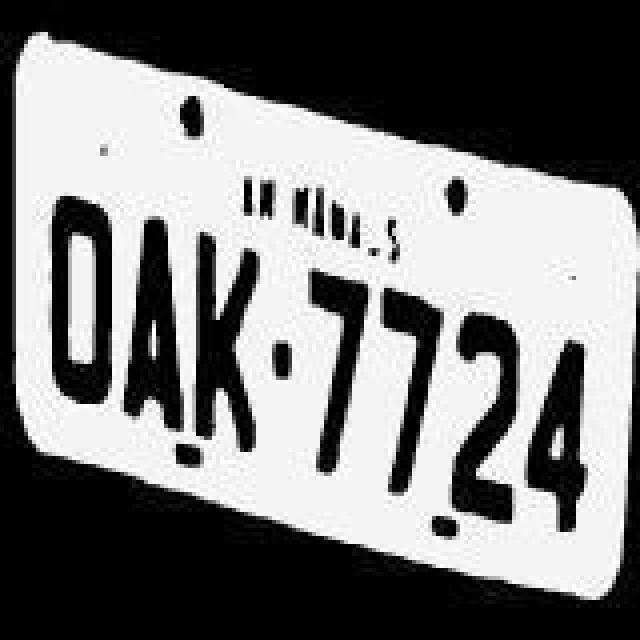2: (446, 296, 522, 536)
4: (524, 334, 596, 554)
7: (296, 264, 376, 488), (376, 280, 448, 504)
A: (120, 210, 192, 438)
K: (192, 232, 272, 456)
O: (40, 192, 120, 416)
